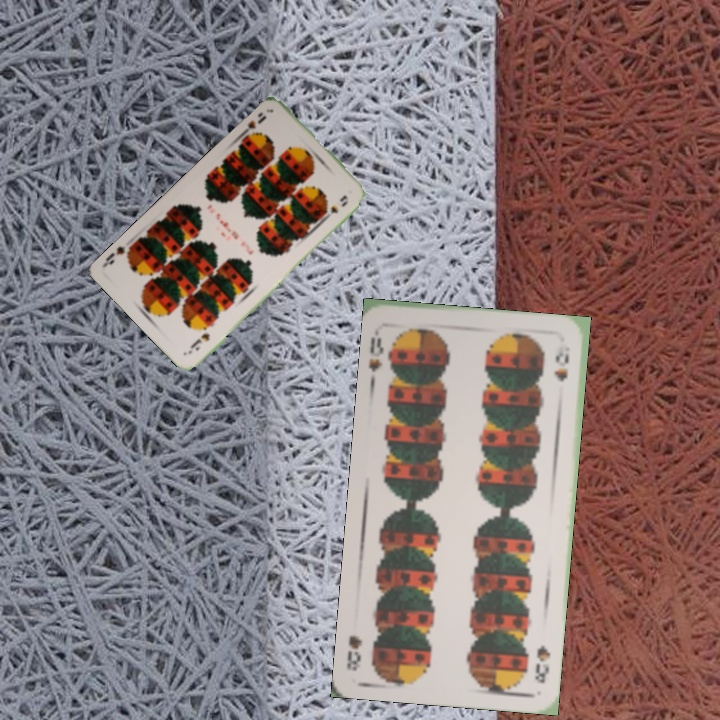S8: (365, 324, 386, 375), (530, 641, 553, 686)
S9: (236, 111, 269, 142), (191, 329, 212, 353)
